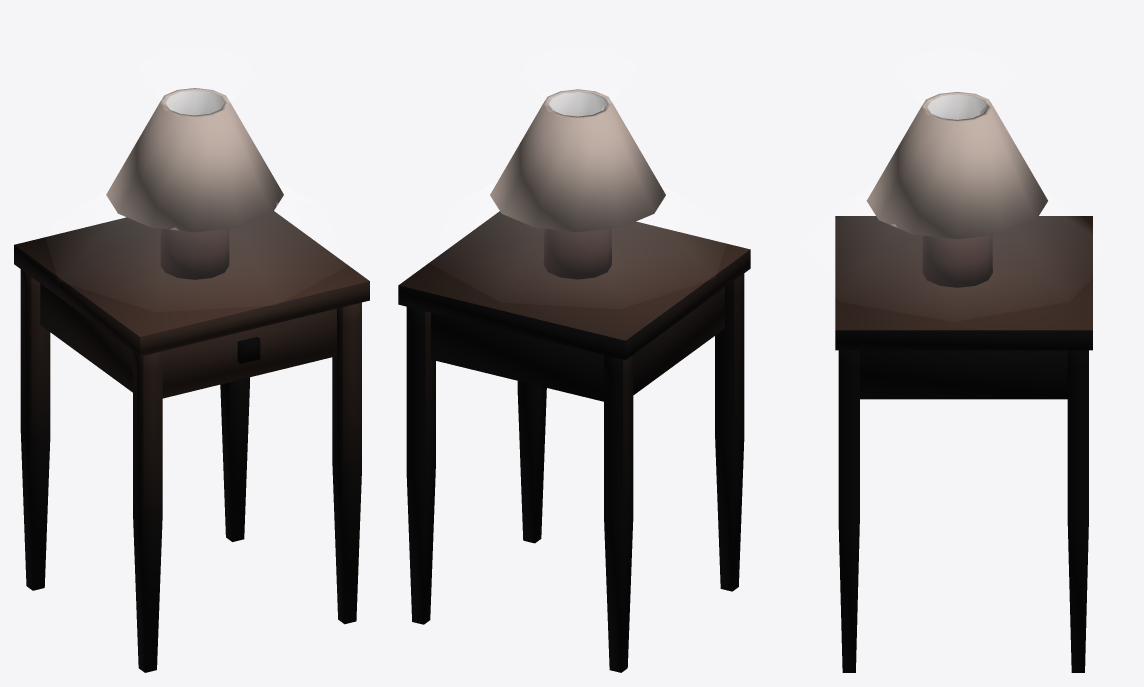
Rendered from furnishings-indoor-bedsidetablenlamp_v1.glb.
The picture shows the model from 3 angles, left to right: view 1: azimuth 30°, elevation 25°; view 2: azimuth 150°, elevation 25°; view 3: azimuth 270°, elevation 25°; orthographic projection. The views are drawn at different scales.
Visible parts, largest first — view 1: BedsideTableNLamp_base, BedsideTableNLamp_Add; view 2: BedsideTableNLamp_base, BedsideTableNLamp_Add; view 3: BedsideTableNLamp_base, BedsideTableNLamp_Add.
Part boxes in pixels (x1=…): BedsideTableNLamp_base: x1=14, y1=88, x2=369, y2=672; BedsideTableNLamp_Add: x1=70, y1=90, x2=315, y2=256; BedsideTableNLamp_base: x1=398, y1=89, x2=750, y2=672; BedsideTableNLamp_Add: x1=462, y1=90, x2=704, y2=254; BedsideTableNLamp_base: x1=835, y1=91, x2=1092, y2=672; BedsideTableNLamp_Add: x1=843, y1=94, x2=1065, y2=264.
Bounding box in the file's own units: 0.6451 × 1.16 × 0.6451.
